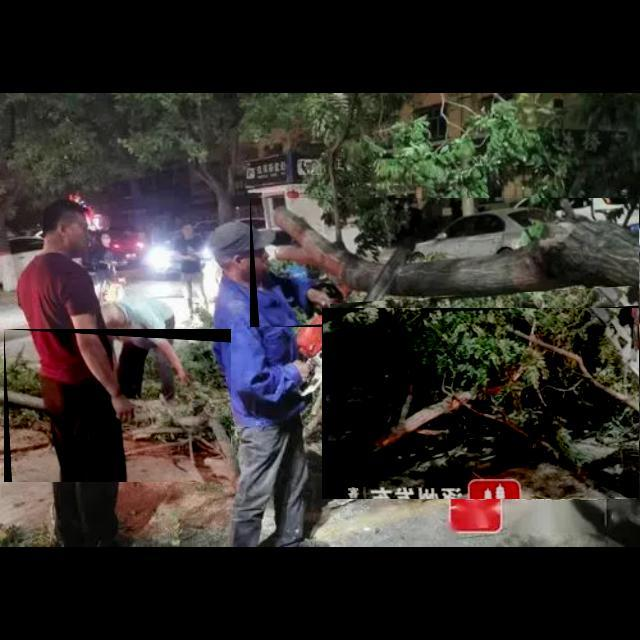fallen_tree: (322, 308, 640, 500), (250, 198, 640, 328), (4, 329, 232, 483)
